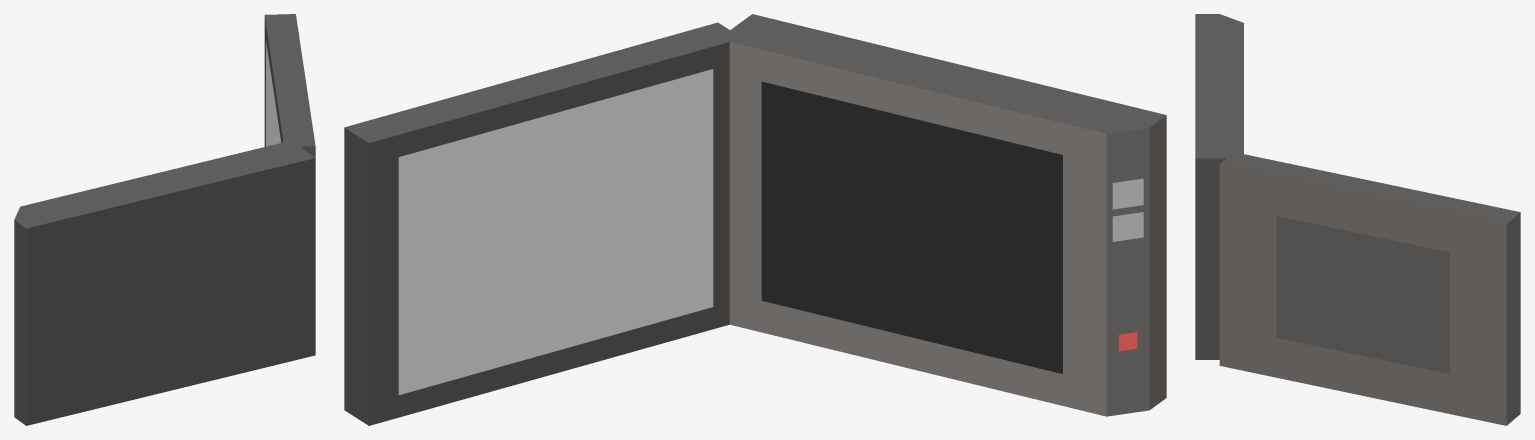
Rendered from Scanner.glb.
The picture shows the model from 3 angles, left to right: view 1: azimuth 30°, elevation 25°; view 2: azimuth 150°, elevation 25°; view 3: azimuth 270°, elevation 25°; orthographic projection. The views are drawn at different scales.
Parts seen in each view (by area): view 1: SO_Scanner; view 2: SO_Scanner; view 3: SO_Scanner.
Part boxes in pixels (x1,y1,x2,y2): SO_Scanner: (14, 14, 315, 425); SO_Scanner: (344, 14, 1166, 425); SO_Scanner: (1195, 14, 1520, 425).
Bounding box in the file's own units: 1.64 × 0.7321 × 1.07.
Materials: 1 (1 with a texture image).
